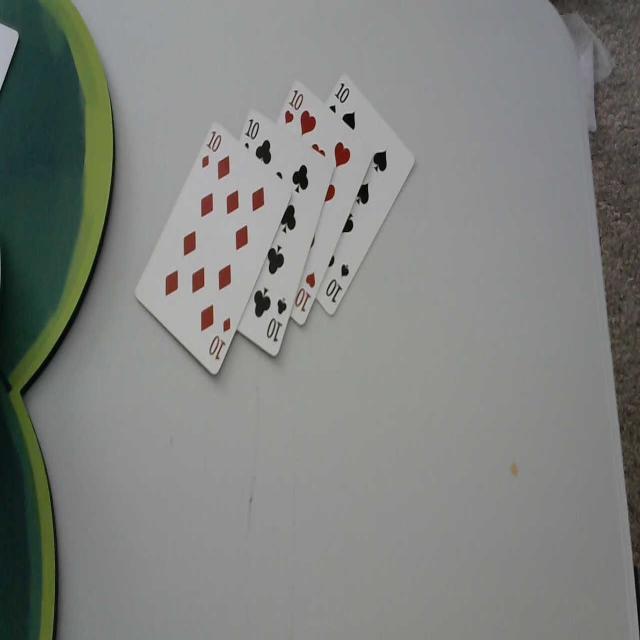10C: (266, 293, 288, 344)
10D: (208, 314, 232, 363), (200, 127, 223, 173)
10H: (294, 270, 317, 314), (284, 86, 304, 123)
10S: (326, 262, 350, 303)
